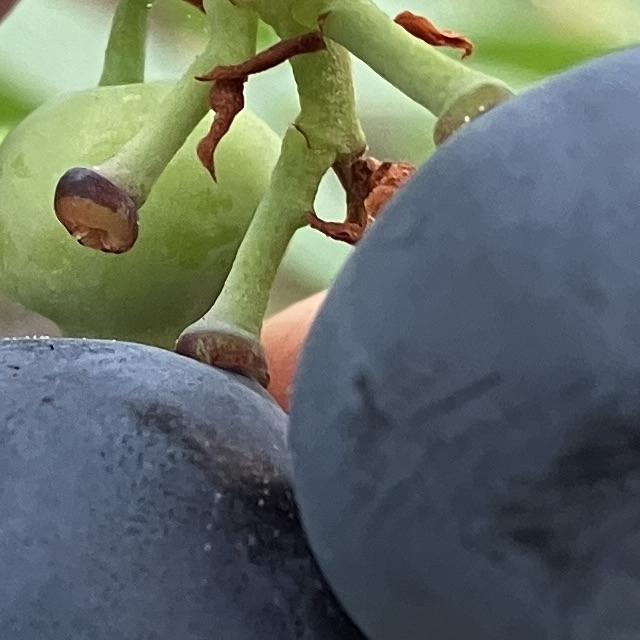Blueberries: (287, 30, 640, 640), (0, 303, 437, 640)
